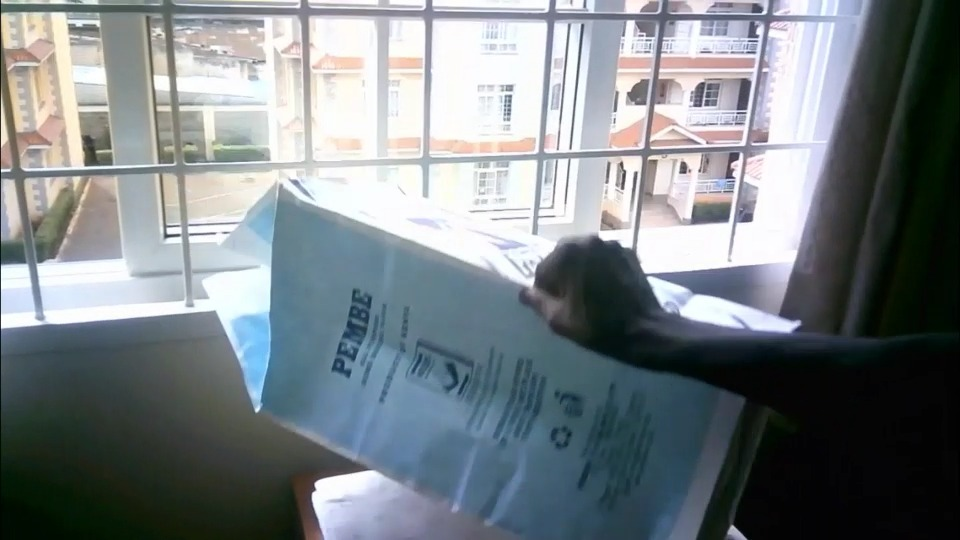wheat_flour_blue_label: (267, 178, 800, 540)
